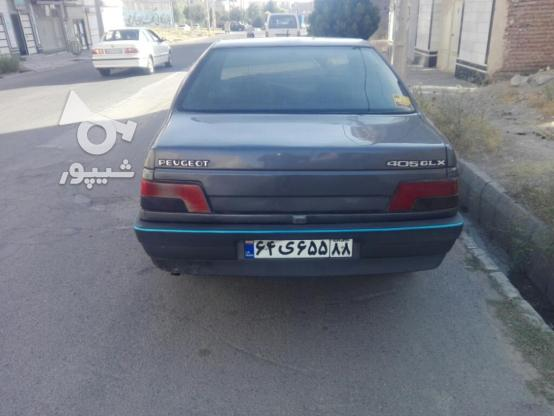car: (244, 237, 352, 258)
